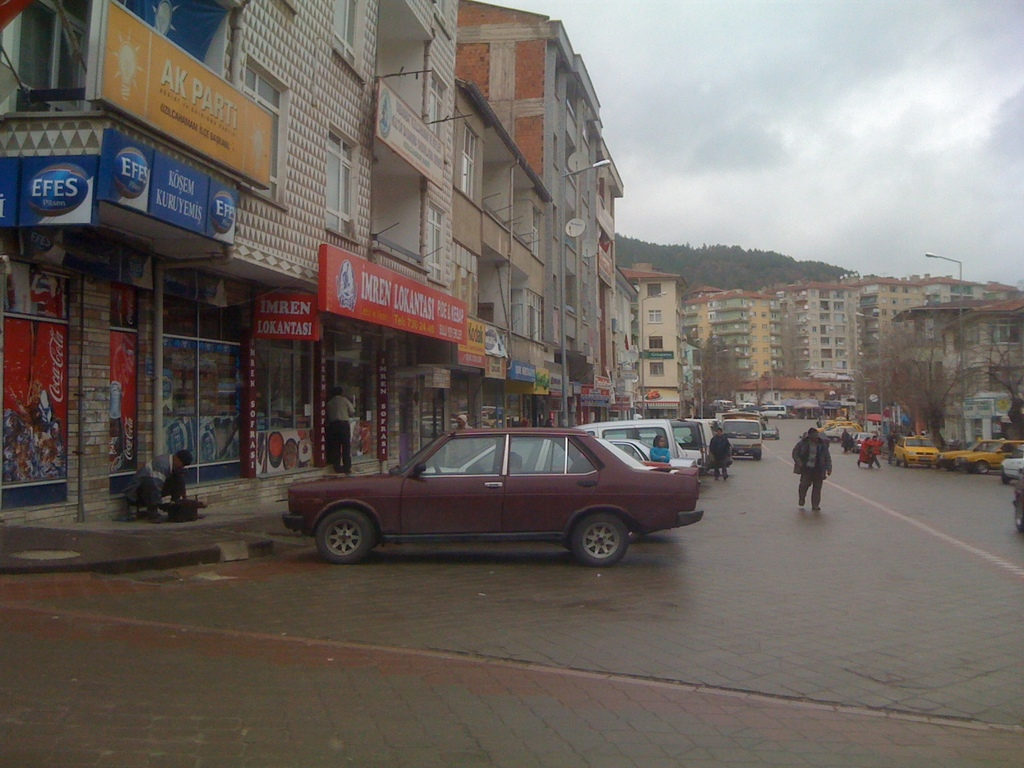mobil: (292, 425, 694, 586)
